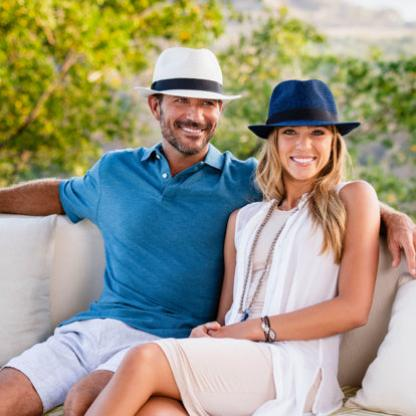hat: (242, 71, 364, 149), (134, 43, 244, 111)
